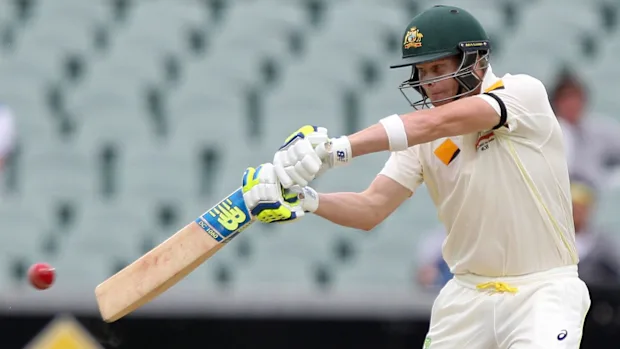Cutshot: (26, 0, 601, 348)
